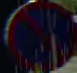No Stopping: (5, 2, 76, 72)
